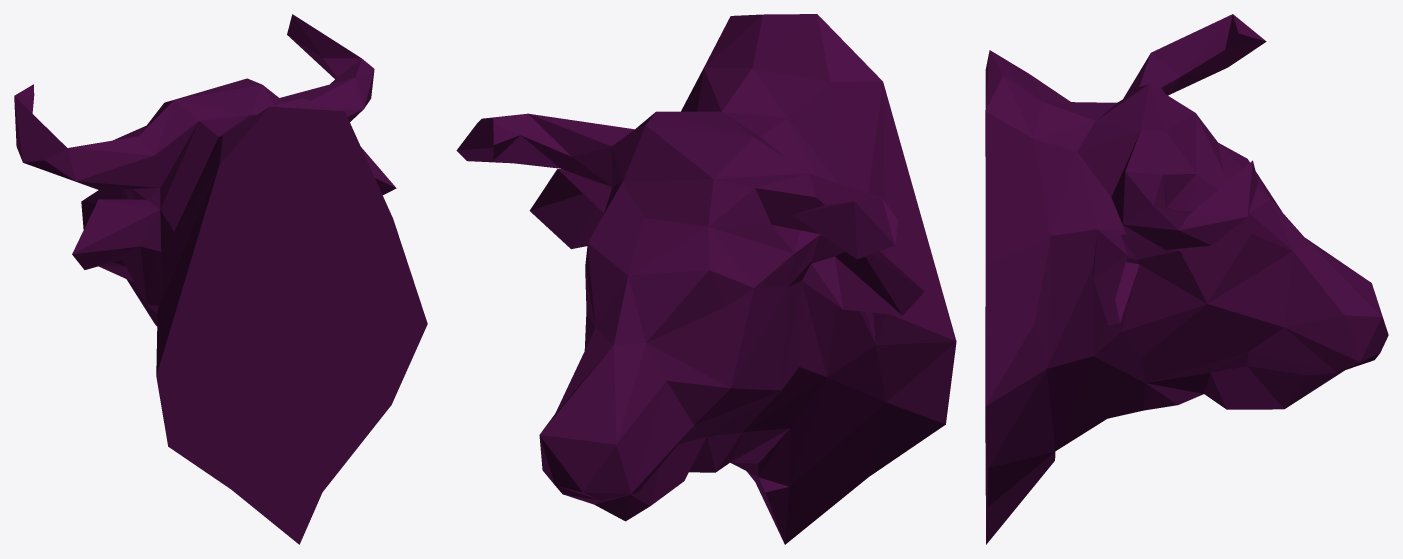
The model's file is bull_head.fbx.
The picture shows the model from 3 angles, left to right: view 1: azimuth 30°, elevation 25°; view 2: azimuth 150°, elevation 25°; view 3: azimuth 270°, elevation 25°; orthographic projection. The views are drawn at different scales.
Visible parts, largest first — view 1: Bull_Head_Seperate_Head; view 2: Bull_Head_Seperate_Head; view 3: Bull_Head_Seperate_Head.
Part boxes in pixels (<box>): Bull_Head_Seperate_Head: <box>14,14,427,544</box>; Bull_Head_Seperate_Head: <box>456,14,956,544</box>; Bull_Head_Seperate_Head: <box>985,14,1388,544</box>.
Bounding box in the file's own units: 3600 × 4395 × 3347.
